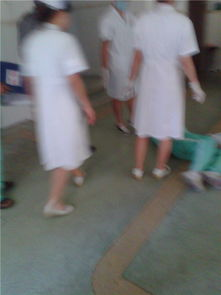fall: (142, 111, 221, 190)
